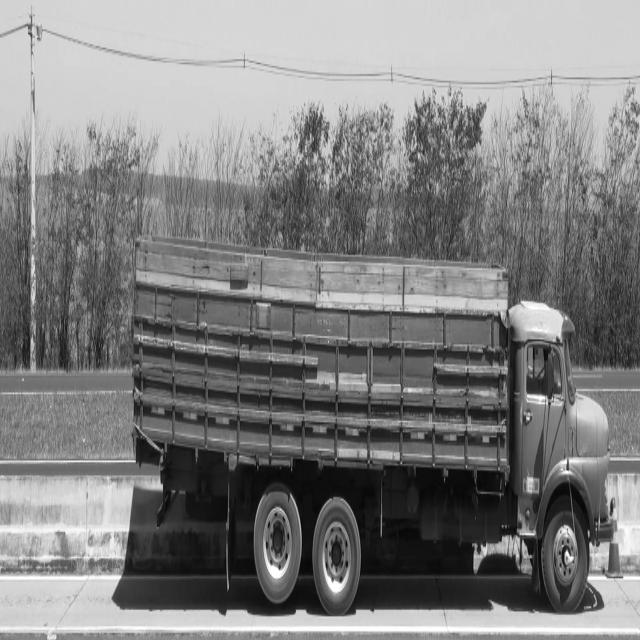Pole: (29, 6, 41, 373)
Truck: (133, 236, 612, 616)
